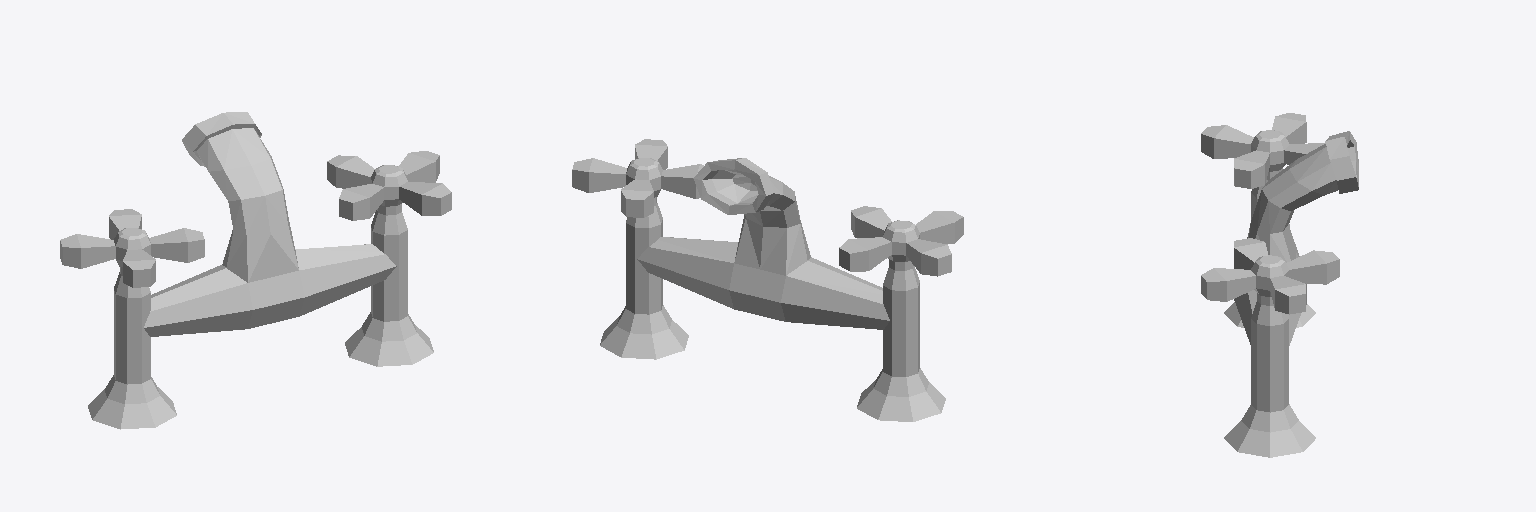
Rendered from pcity_nodes_tap_down.obj.
The picture shows the model from 3 angles: view 1: azimuth 30°, elevation 25°; view 2: azimuth 150°, elevation 25°; view 3: azimuth 270°, elevation 25°; orthographic projection.
Parts seen in each view (by area): view 1: Tap_down; view 2: Tap_down; view 3: Tap_down.
Part boxes in pixels (bbox=[...]): Tap_down: bbox=[60, 112, 451, 429]; Tap_down: bbox=[572, 139, 963, 421]; Tap_down: bbox=[1201, 113, 1358, 457].
Size of the model in its own units: 0.5886 by 0.3563 by 0.2145.